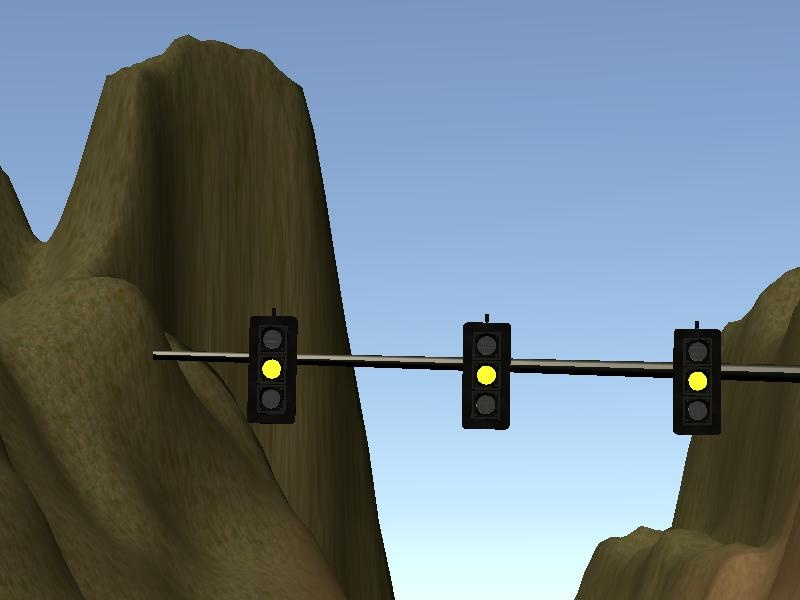YELLOW: (245, 307, 299, 426), (460, 315, 514, 434), (669, 316, 723, 435)
